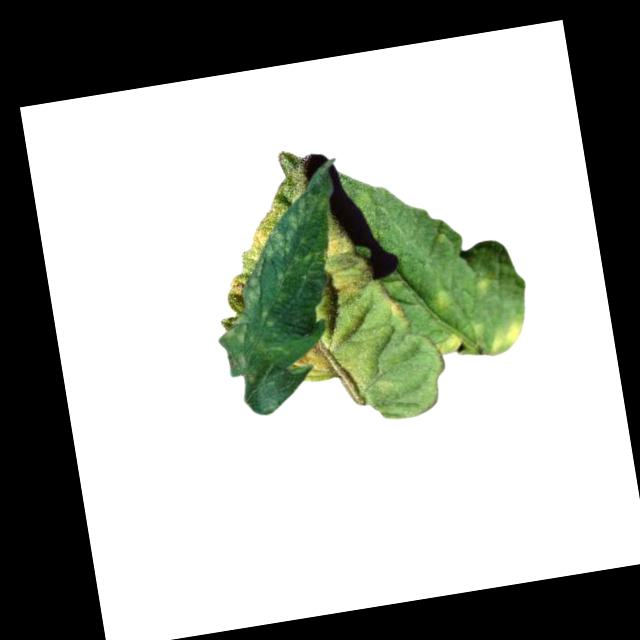Leaf_Mold: (211, 190, 303, 318), (318, 216, 375, 306), (286, 334, 343, 384), (376, 278, 413, 332), (483, 312, 526, 355), (433, 326, 468, 356), (424, 283, 456, 312)
